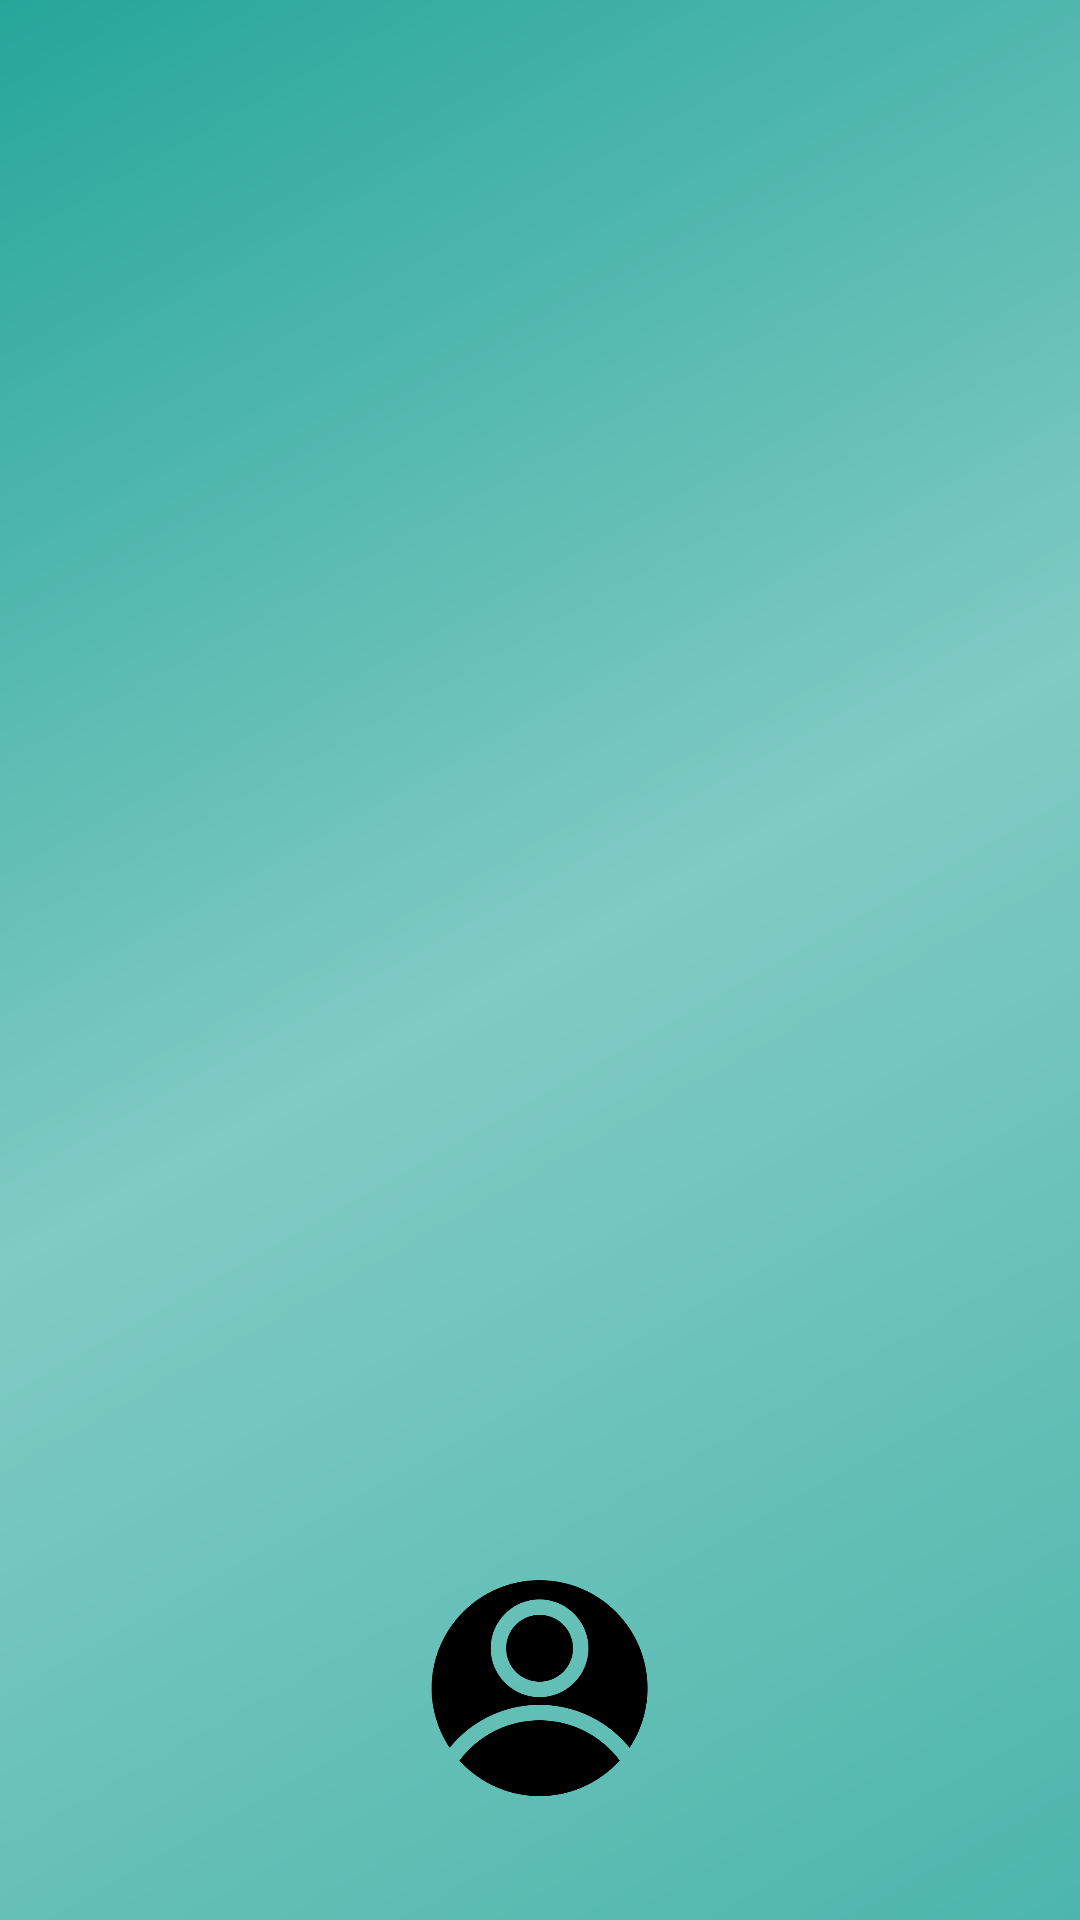

Icon bounding boxes for this 1080×1920 phone screenshot, format (x1, y1, x2, y2):
user: (431, 1580, 648, 1796)
